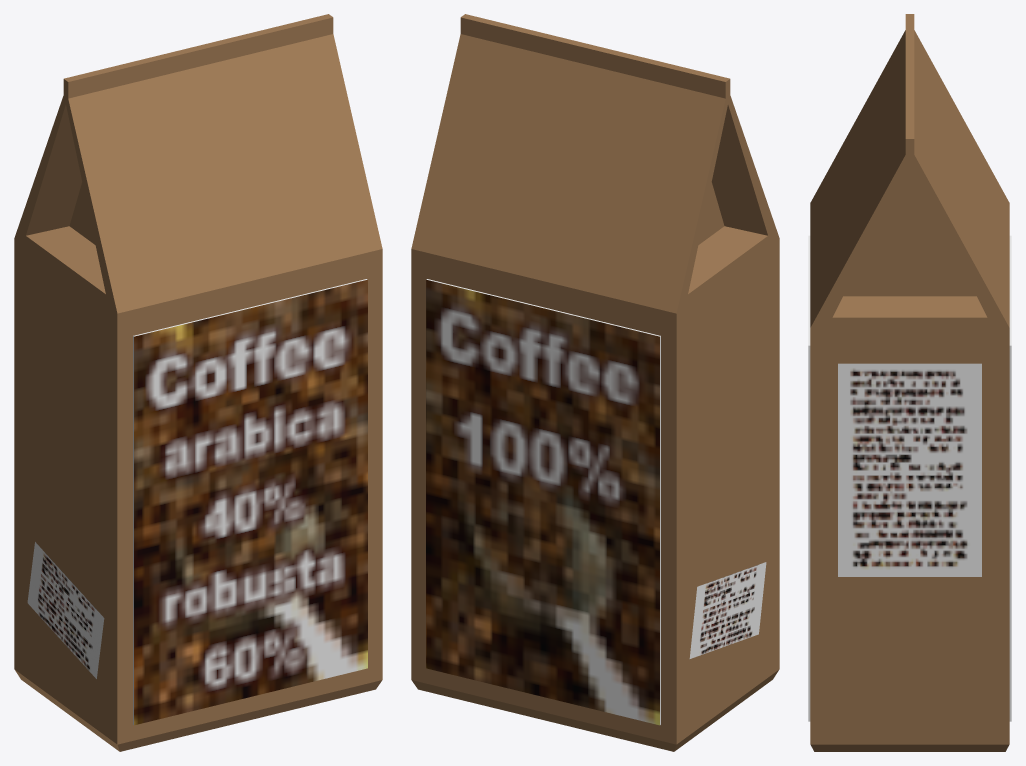
Rendered from coffee-box-1.gltf.
The picture shows the model from 3 angles, left to right: view 1: azimuth 30°, elevation 25°; view 2: azimuth 150°, elevation 25°; view 3: azimuth 270°, elevation 25°; orthographic projection. The views are drawn at different scales.
Visible parts, largest first — view 1: coffee-box1; view 2: coffee-box1; view 3: coffee-box1.
Part boxes in pixels (bbox=[...]): coffee-box1: bbox=[14, 14, 382, 751]; coffee-box1: bbox=[411, 14, 779, 751]; coffee-box1: bbox=[808, 14, 1011, 751].
Bounding box in the file's own units: 0.1 × 0.2293 × 0.0686.
Materials: 1 (1 with a texture image).
